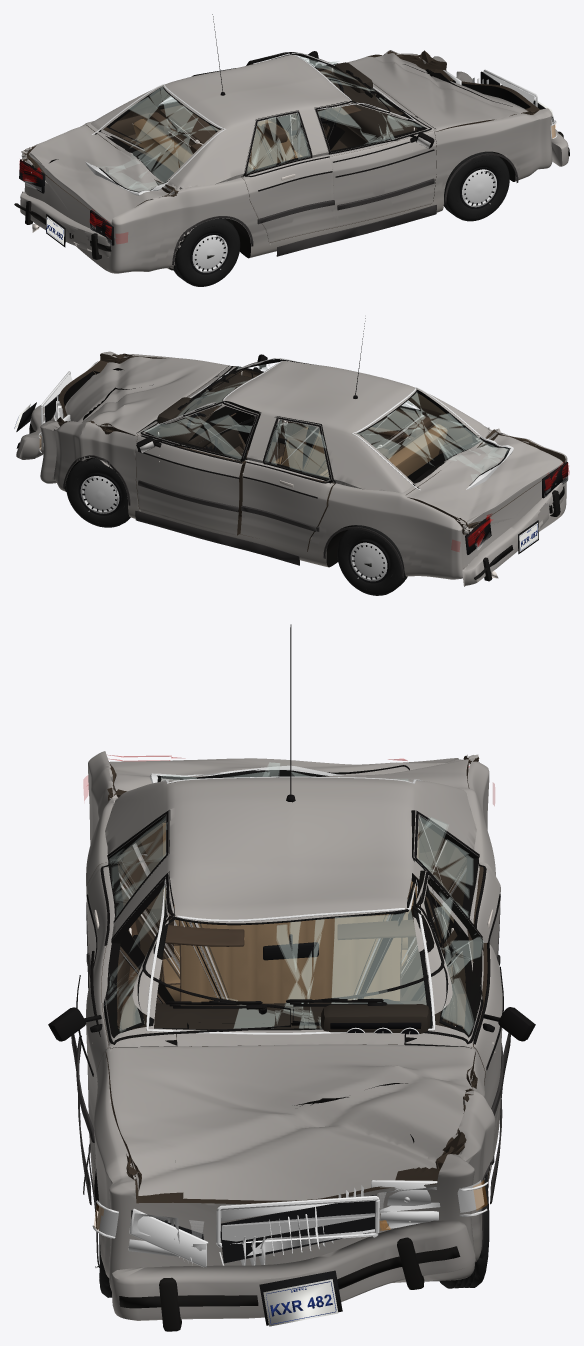
The model's file is sedan87_front_corner_d1_lod1.glb.
3 renders of one model, top to bottom at view 1: azimuth 30°, elevation 25°; view 2: azimuth 150°, elevation 25°; view 3: azimuth 270°, elevation 25°, orthographic. The views are drawn at different scales.
Parts seen in each view (by area): view 1: Body, Door_FR, Interior, Trunk, Hood, Glass, Door_RR, Wheel_FR_mesh, Wheel_RR_mesh, Trim, Ends, Glass_RR (+7 smaller); view 2: Body, Door_FL, Hood, Trunk, Interior, Door_RL, Glass, Wheel_RL_mesh, Wheel_FL_mesh, Trim, Ends, Bumper_R (+10 smaller); view 3: Body, Hood, Interior, Ends, Bumper_F, Glass, Door_FL, Door_FR, Trunk, Trim_FR, Door_RL, Trim_FL (+9 smaller).
Boxes of the visible parts, box(x1,y1,x2,y2) form: Body: box(21, 50, 552, 273); Door_FR: box(314, 101, 436, 227); Interior: box(133, 62, 417, 172); Trunk: box(26, 125, 170, 224); Hood: box(347, 53, 528, 131); Glass: box(85, 52, 415, 195); Door_RR: box(242, 110, 335, 242); Wheel_FR_mesh: box(443, 151, 509, 221); Wheel_RR_mesh: box(173, 218, 240, 286); Trim: box(172, 14, 518, 265); Ends: box(19, 69, 557, 247); Glass_RR: box(246, 112, 310, 173); Body: box(40, 351, 567, 579); Door_FL: box(135, 402, 260, 535); Hood: box(65, 357, 230, 436); Trunk: box(406, 432, 563, 526); Interior: box(155, 373, 447, 477); Door_RL: box(240, 416, 335, 551); Glass: box(157, 358, 513, 490); Wheel_RL_mesh: box(337, 525, 407, 595); Wheel_FL_mesh: box(66, 458, 130, 527); Trim: box(63, 318, 404, 577); Ends: box(14, 361, 567, 554); Bumper_R: box(462, 482, 564, 586); Body: box(86, 751, 495, 1290); Hood: box(105, 1044, 475, 1200); Interior: box(135, 821, 446, 1045); Ends: box(92, 1180, 487, 1326); Bumper_F: box(111, 1220, 475, 1331); Glass: box(146, 762, 435, 1034); Door_FL: box(405, 870, 502, 1178); Door_FR: box(86, 872, 176, 1178); Trunk: box(109, 755, 468, 791); Trim_FR: box(48, 873, 290, 1142); Door_RL: box(411, 810, 500, 1029); Trim_FL: box(292, 871, 535, 1115).
Bounding box in the file's own units: 4.89 × 2.14 × 2.09.
33 materials, 5 textured.
